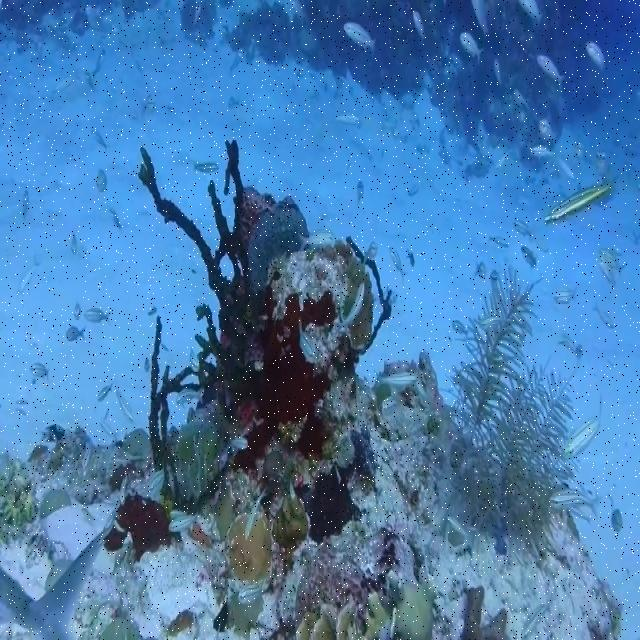aquatic plants: (447, 265, 574, 546)
fish: (539, 175, 620, 226), (567, 396, 604, 456), (549, 489, 604, 517), (596, 246, 630, 286)
reefs: (138, 136, 268, 516), (251, 202, 307, 293)
sea-floor: (0, 235, 621, 639)
